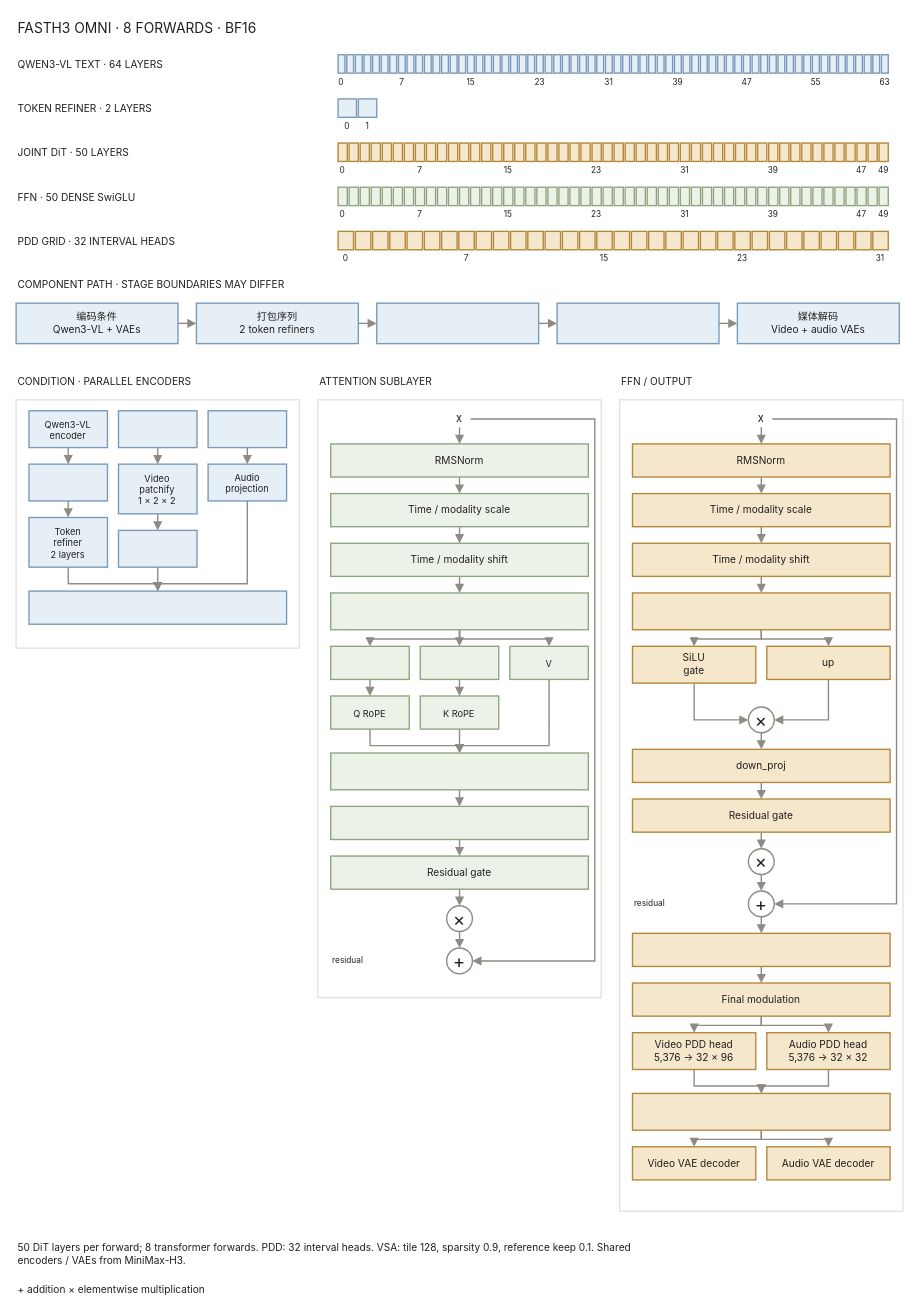
The diagram is 921 pixels wide and 1313 high, and some of its shapes have lost their labels. The centre of each missing label's shape, as x and y in pixels:
Audio VAE encoder: point 247,429
Final RMSNorm: point 760,949
gate_up_proj fused linear · d_ff 14,336: point 760,611
K RMSNorm: point 459,662
o_proj: point 459,822
Pack multimodal sequence: point 157,607
PDD interval update 8 forwards · grid stride 4: point 760,1111
PDD sampling 8 transformer forwards: point 637,323
Q RMSNorm: point 369,662
QKV projection Q 56 × 128 · KV 56 × 128: point 459,611
Text projection: point 68,482
Video projection: point 157,548
Video VAE encoder: point 157,429
VSA DiT 50 layers per forward: point 457,323
VSA-H3 tile 128 · regional top-k: point 459,771
